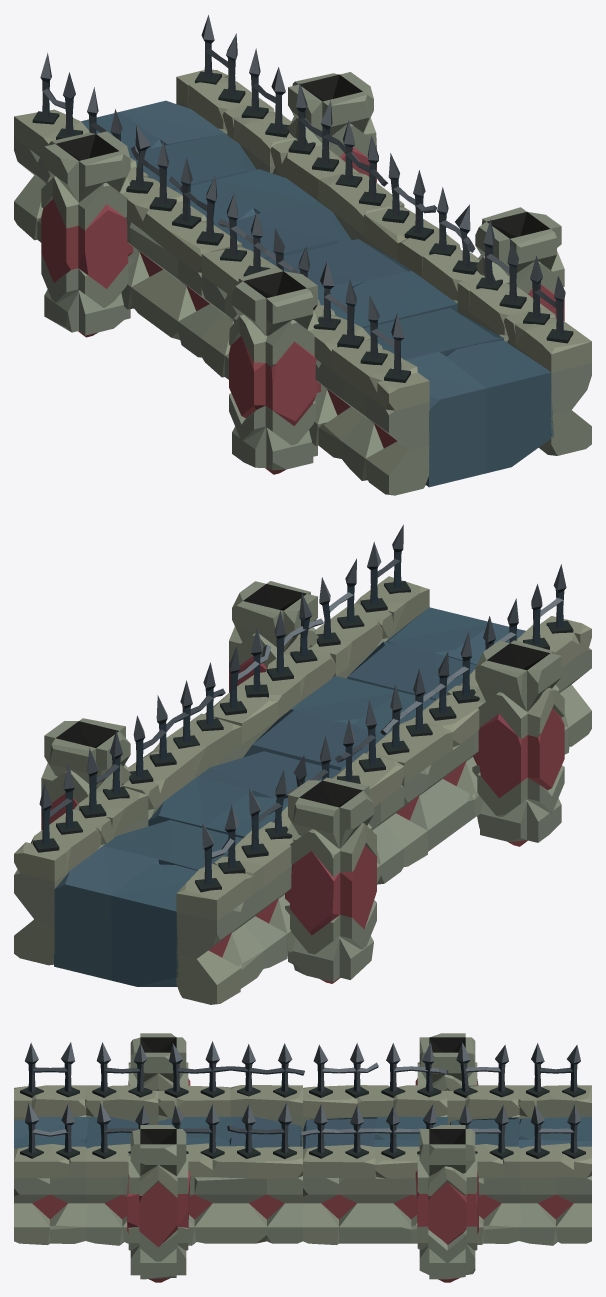
The model's file is bridge_I_03_no_support.fbx.
3 renders of one model, top to bottom at view 1: azimuth 30°, elevation 25°; view 2: azimuth 150°, elevation 25°; view 3: azimuth 270°, elevation 25°, orthographic. The views are drawn at different scales.
Parts seen in each view (by area): view 1: bridge_I_03_no_support; view 2: bridge_I_03_no_support; view 3: bridge_I_03_no_support.
Boxes of the visible parts, box(x1,y1,x2,y2) form: bridge_I_03_no_support: box(14, 15, 591, 495); bridge_I_03_no_support: box(14, 524, 591, 1004); bridge_I_03_no_support: box(14, 1033, 591, 1282).
Bounding box in the file's own units: 388 × 248 × 800.
